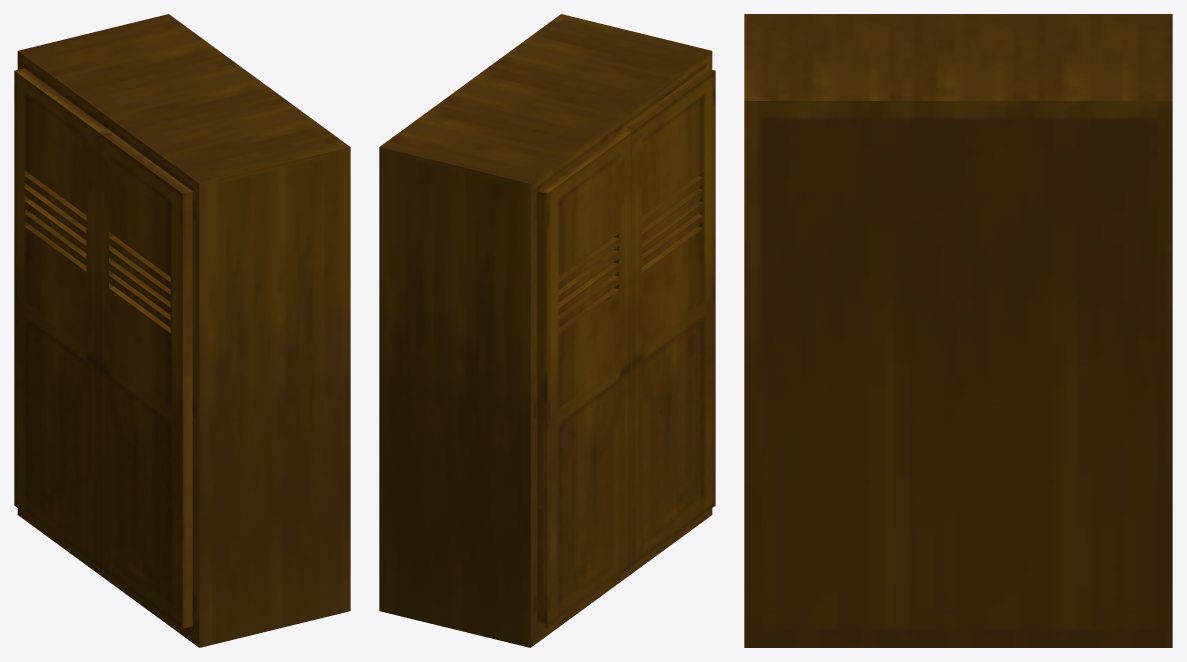
Rendered from Shkaf_hide1.fbx.
3 renders of one model, left to right at view 1: azimuth 30°, elevation 25°; view 2: azimuth 150°, elevation 25°; view 3: azimuth 270°, elevation 25°, orthographic. The views are drawn at different scales.
Visible parts, largest first — view 1: Cube, Cube.002, Cube.001; view 2: Cube, Cube.001, Cube.002; view 3: Cube.
Part boxes in pixels (left/top/right/bottom): Cube: left=17, top=14, right=350, bottom=647; Cube.002: left=98, top=130, right=192, bottom=628; Cube.001: left=14, top=68, right=108, bottom=566; Cube: left=379, top=14, right=712, bottom=647; Cube.001: left=537, top=130, right=631, bottom=628; Cube.002: left=621, top=68, right=715, bottom=566; Cube: left=744, top=14, right=1172, bottom=647.
Bounding box in the file's own units: 81.42 × 224 × 159.
Materials: 1 (1 with a texture image).
